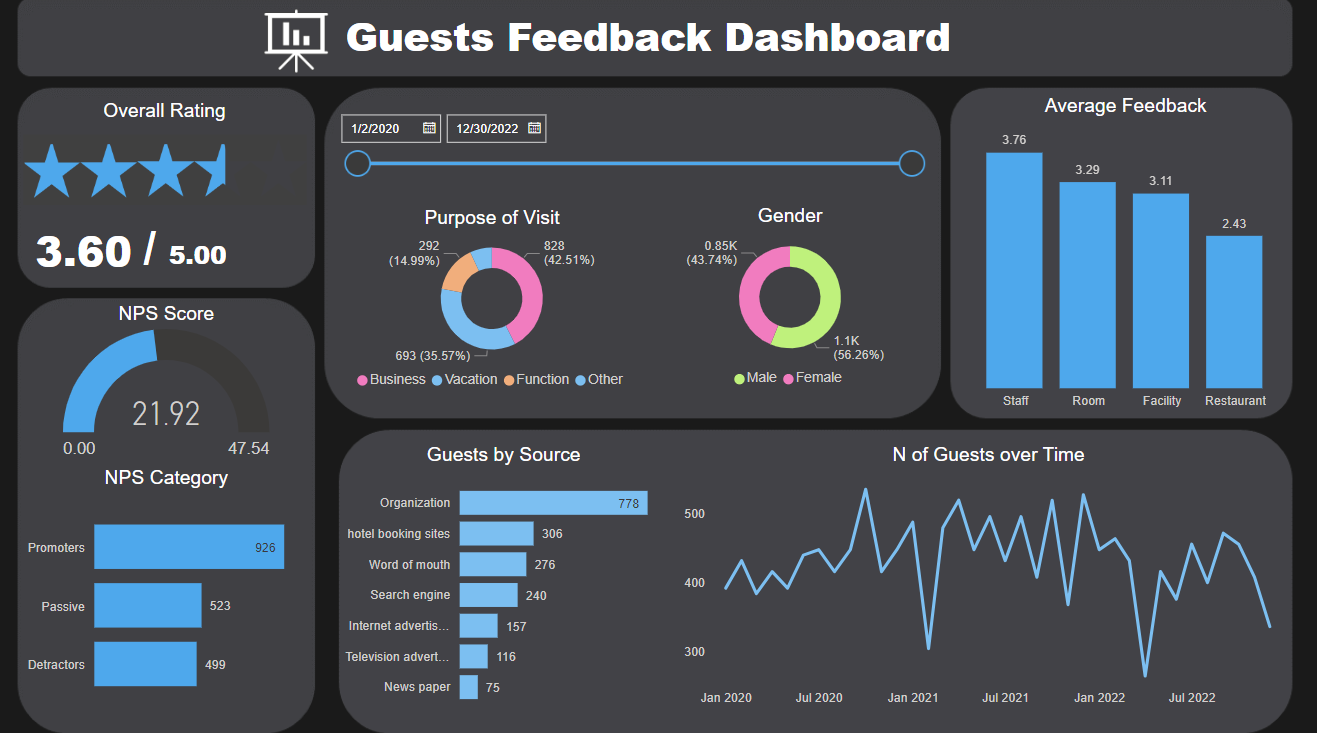

This screenshot's page, from the dashboard's own definition file:
{"tool":"powerbi","page":{"name":"Page 1","canvas":[1280,720],"ordinal":0},"visuals":[{"type":"slicer","fields":{"Values":["General.Checkout Date"]},"box":[323.9,105.1,584.3,85.6],"z":0},{"type":"clusteredColumnChart","title":"Average Feedback","fields":{"Y":["Avg(Feedback.Rating Score)"],"Category":["Feedback.Feedback Category"]},"box":[926.2,96.5,335.3,311.2],"z":1000},{"type":"donutChart","title":"Gender","fields":{"Y":["CountNonNull(General.Gender)"],"Category":["General.Gender"]},"box":[627.1,202.6,285.8,186.9],"z":2000},{"type":"clusteredBarChart","title":"Guests by Source","fields":{"Category":["General.Source"],"Y":["CountNonNull(General.Source)"]},"box":[323.9,432.7,338.6,264],"z":3000},{"type":"gauge","fields":{"Y":["General.NPS Score"]},"box":[22.9,296.7,290.7,158],"z":4000},{"type":"lineChart","title":" N of Guests over Time ","fields":{"Y":["CountNonNull(Feedback.ID)"],"Category":["General.Checkout Date.Variation.Date Hierarchy.Year","General.Checkout Date.Variation.Date Hierarchy.Quarter","General.Checkout Date.Variation.Date Hierarchy.Month"]},"box":[662.5,432.7,599,261.6],"z":5000},{"type":"clusteredBarChart","title":"NPS Category","fields":{"Category":["General.NPS"],"Y":["CountNonNull(General.NPS)"]},"box":[22.9,454.7,290.7,242.4],"z":6000},{"type":"donutChart","title":"Purpose of Visit","fields":{"Y":["CountNonNull(General.Purpose)"],"Category":["General.Purpose"]},"box":[337.7,203.8,289.4,186.9],"z":7000},{"type":"clusteredBarChart","fields":{"Y":["Avg(General.experience Rate)"]},"box":[26.5,73.6,279,190.6],"z":8000},{"type":"card","fields":{"Values":["Avg(General.experience Rate)"]},"box":[8.4,202.6,160.4,85.6],"z":9000},{"type":"textbox","box":[141.1,207.4,121.8,72.4],"z":10000},{"type":"textbox","box":[311.2,8.4,657.3,65.1],"z":11000},{"type":"textbox","box":[26.5,96.5,279.8,38.6],"z":12000},{"type":"image","box":[25.3,114.6,283.4,107.3],"z":13000},{"type":"image","box":[232.8,0,121.8,88],"z":14000}]}

Visuals, with their boxes in screenshot pixels (x1, y1, x2, y2), scaled from the page's 1280x720 canvas onto the 1317x733 screenshot:
slicer - General.Checkout Date: [333,107,934,194]
"Average Feedback" clusteredColumnChart: [953,98,1298,415]
"Gender" donutChart: [645,206,939,397]
"Guests by Source" clusteredBarChart: [333,441,682,709]
gauge - General.NPS Score: [24,302,323,463]
" N of Guests over Time " lineChart: [682,441,1298,707]
"NPS Category" clusteredBarChart: [24,463,323,710]
"Purpose of Visit" donutChart: [347,207,645,398]
clusteredBarChart - Avg(General.experience Rate): [27,75,314,269]
card - Avg(General.experience Rate): [9,206,174,293]
textbox: [145,211,270,285]
textbox: [320,9,996,75]
textbox: [27,98,315,138]
image: [26,117,318,226]
image: [240,0,365,90]
